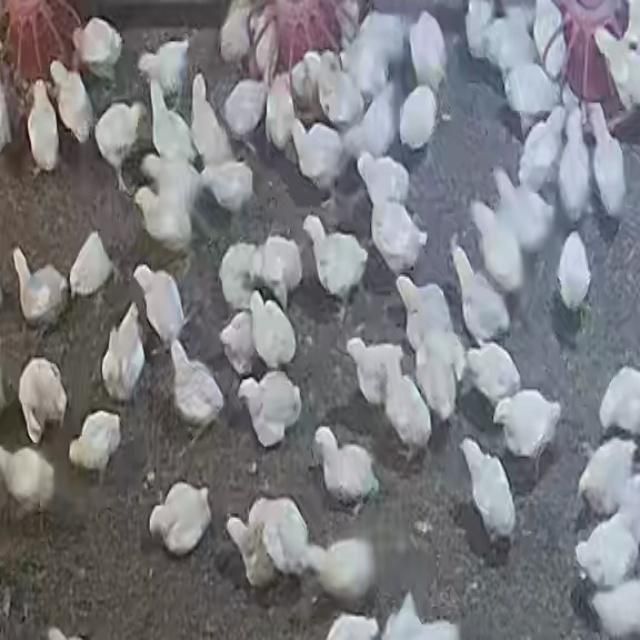chicken: (227, 494, 316, 587), (467, 187, 534, 294), (300, 216, 368, 310), (458, 439, 516, 547), (133, 160, 198, 255), (396, 273, 458, 369), (451, 246, 512, 343), (167, 339, 224, 439), (312, 427, 380, 510), (236, 368, 303, 449), (344, 11, 402, 101), (148, 480, 212, 560), (574, 510, 638, 590), (367, 197, 427, 282), (492, 389, 560, 464), (380, 363, 432, 459), (344, 337, 408, 414), (287, 114, 344, 199), (92, 98, 144, 191), (12, 245, 68, 331), (412, 335, 462, 431), (146, 75, 197, 169), (588, 102, 627, 222), (343, 82, 398, 167), (100, 305, 146, 406), (578, 439, 636, 519), (132, 263, 186, 348), (517, 104, 567, 194), (18, 356, 68, 446), (476, 5, 535, 80), (594, 25, 640, 121), (189, 72, 234, 170), (555, 107, 592, 226), (0, 442, 57, 518), (252, 233, 306, 311), (247, 290, 298, 372), (312, 537, 374, 604), (463, 341, 522, 411), (313, 50, 363, 130), (501, 60, 559, 127), (50, 60, 94, 148), (379, 593, 460, 640), (68, 409, 123, 478), (354, 152, 410, 218), (136, 36, 190, 104), (584, 571, 638, 638), (407, 10, 448, 96), (198, 161, 253, 221), (222, 77, 270, 145), (68, 227, 112, 300), (26, 78, 59, 174), (218, 243, 262, 314), (598, 365, 640, 438), (75, 15, 122, 80), (556, 229, 591, 309), (264, 72, 297, 154), (399, 83, 438, 152), (220, 310, 258, 377), (218, 2, 258, 65), (532, 0, 564, 69), (463, 0, 496, 62)
